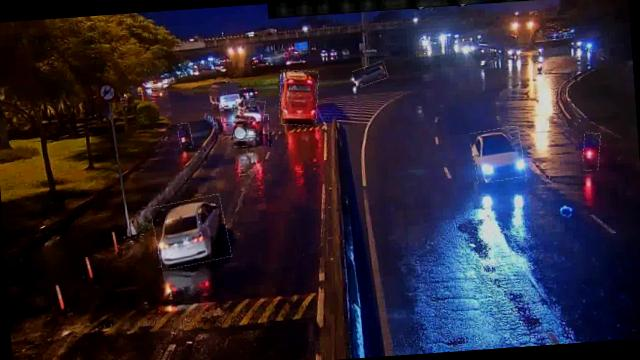Bike: (580, 132, 600, 170), (176, 122, 192, 148)
Bus: (276, 68, 320, 127)
Car: (151, 195, 230, 268), (470, 126, 525, 182), (232, 112, 270, 146), (352, 63, 387, 86), (233, 99, 265, 123)
